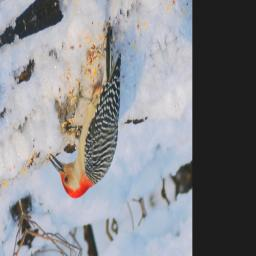Woodpecker: (29, 13, 146, 212)
